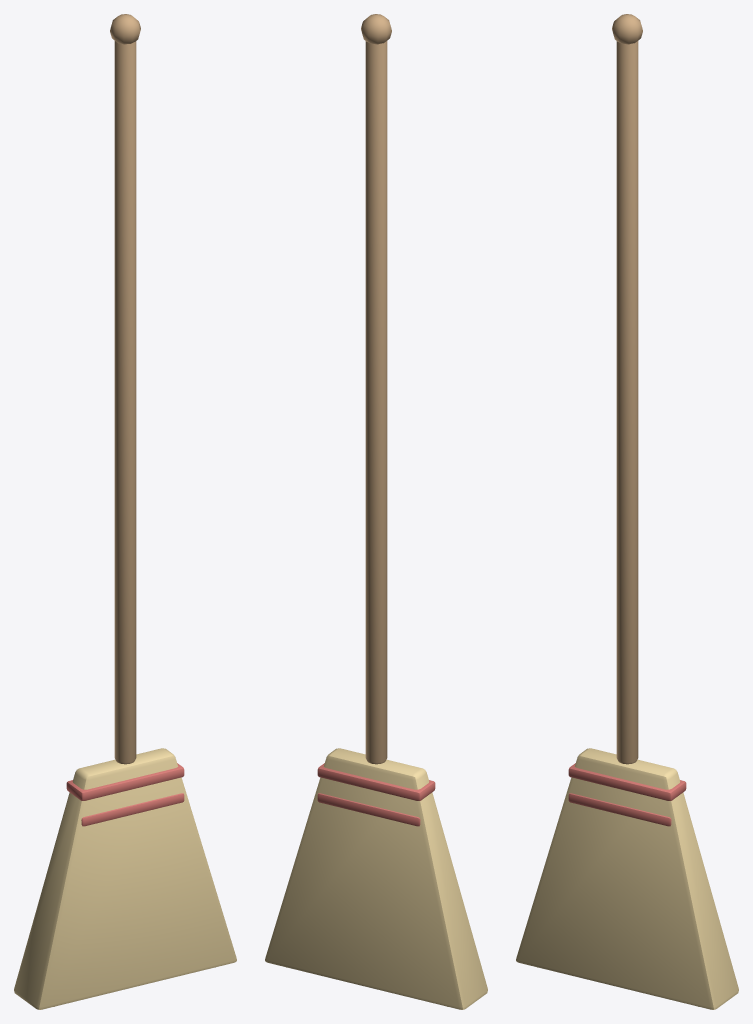
Rendered from broom.glb.
3 views of the same model, side by side, from view 1: azimuth 30°, elevation 25°; view 2: azimuth 150°, elevation 25°; view 3: azimuth 330°, elevation 25° (orthographic).
Visible parts, largest first — view 1: broom; view 2: broom; view 3: broom.
Part boxes in pixels (box(x1,y1,x2,y2)): broom: box(14, 14, 236, 1009); broom: box(265, 14, 487, 1009); broom: box(516, 14, 738, 1009).
Bounding box in the file's own units: 0.2894 × 1.33 × 0.0668.
